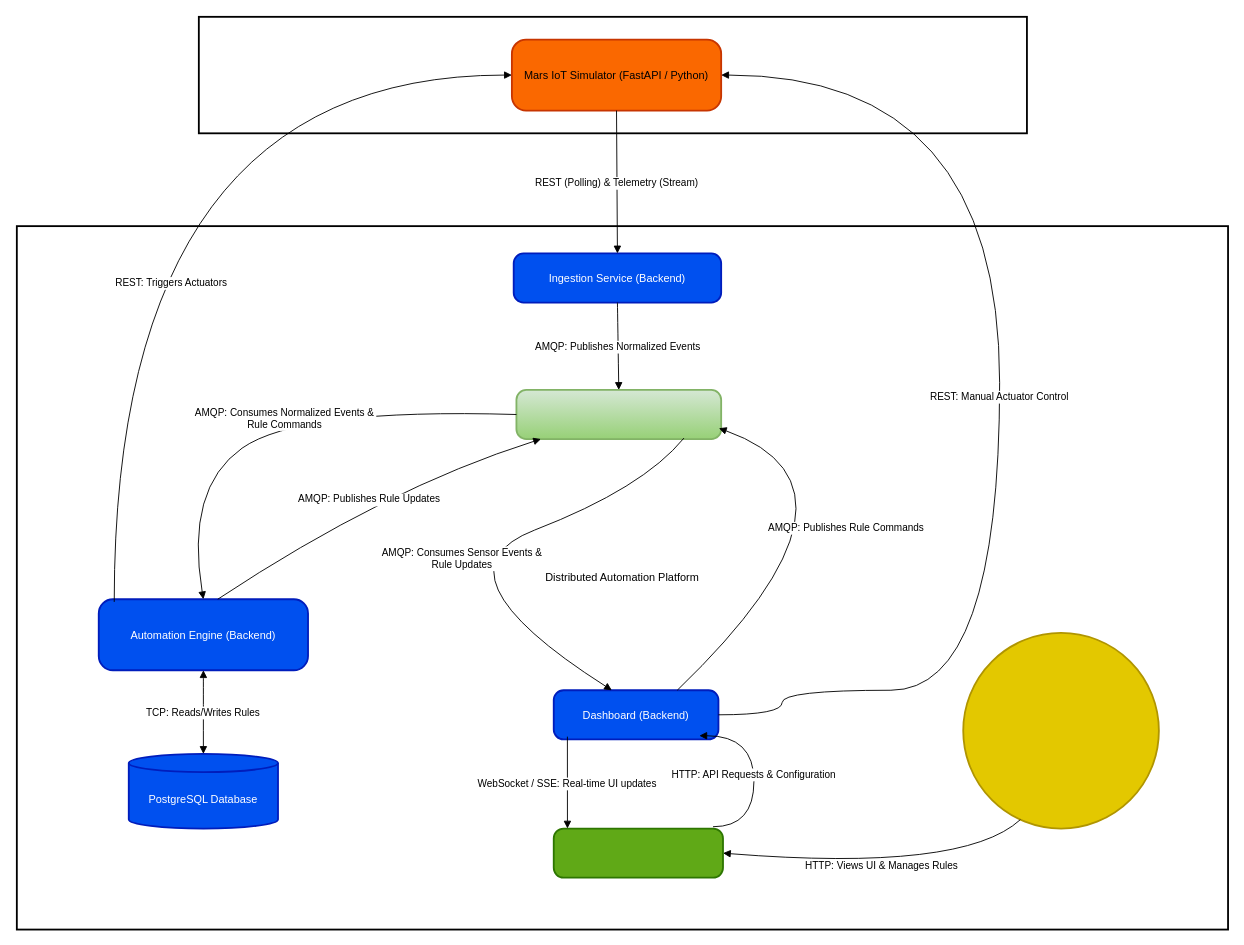
Image size: 1244x945. Some labels were removed from this diagram. The centre of each missing label's shape, as x and y in pixels:
"Dashboard (Frontend)" goes at [637,852].
"Mars Operator / Habitat Engineer" goes at [1060,730].
"Message Broker (RabbitMQ)" goes at [618,414].
